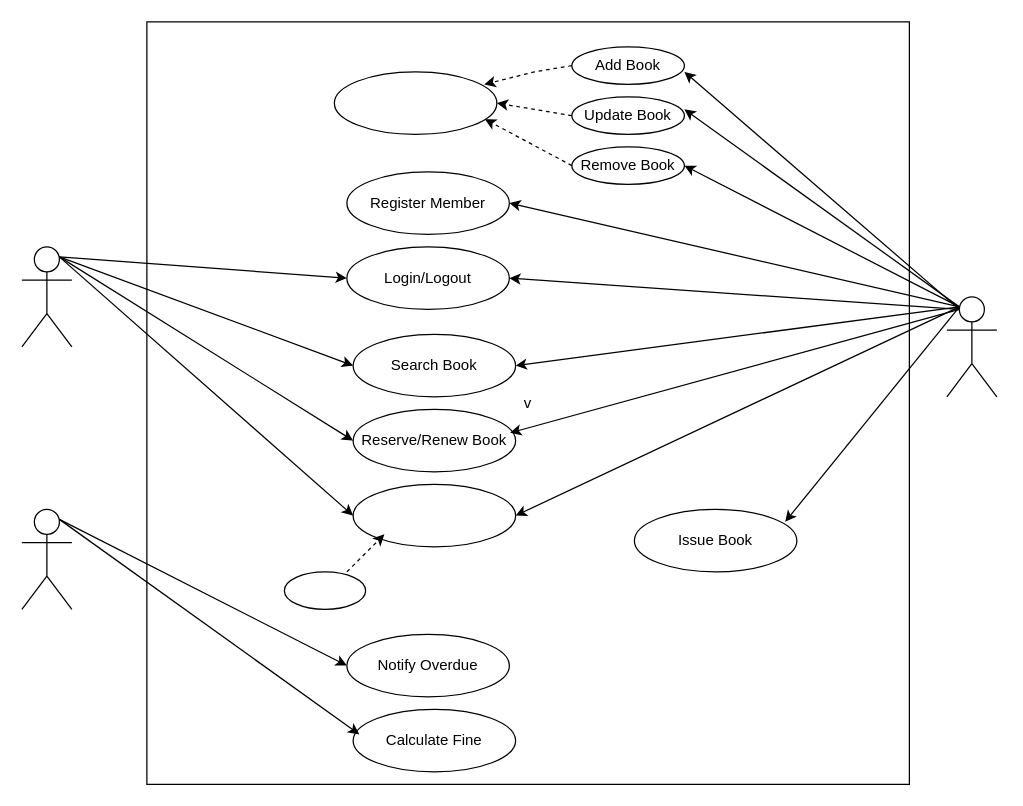
Some shapes in this 1023 by 806 pixel diagram are drawn without their labels. The centre of each missing label's shape, as x and y in pixels:
Librarian: point 971,346
Pay Fine: point 324,590
Return Book: point 434,515
System: point 46,558
Update catalog: point 415,102
User: point 46,296
